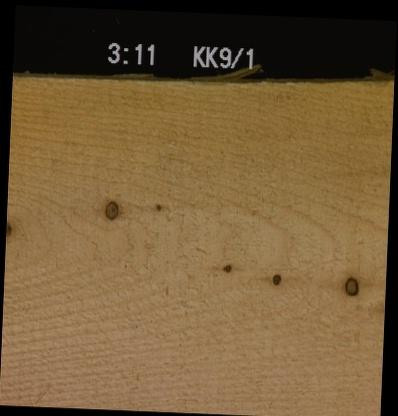dry_knot: (102, 198, 118, 219), (343, 275, 358, 295)
small_knot: (269, 271, 281, 285), (221, 261, 231, 272), (153, 200, 161, 210)
sound_knot: (5, 219, 10, 237)
